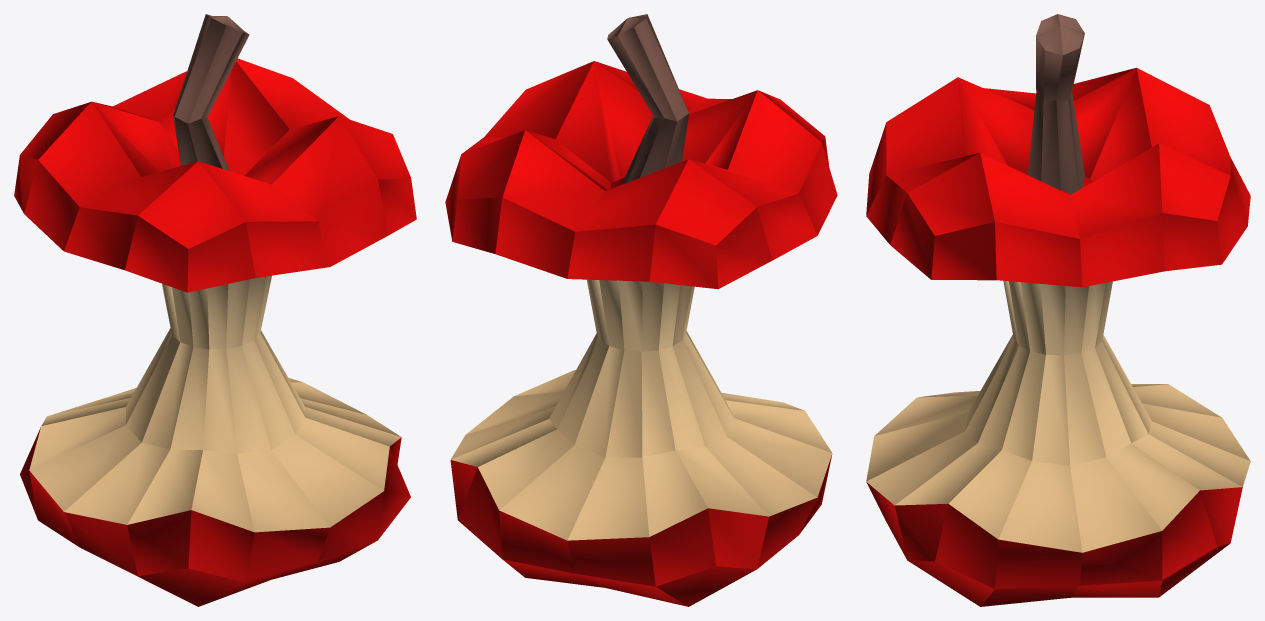
Rendered from apple.fbx.
3 views of the same model, side by side, from view 1: azimuth 30°, elevation 25°; view 2: azimuth 150°, elevation 25°; view 3: azimuth 270°, elevation 25° (orthographic).
Visible parts, largest first — view 1: 673; view 2: 673; view 3: 673.
Part boxes in pixels (<box>): 673: <box>14,14,416,606</box>; 673: <box>445,14,837,606</box>; 673: <box>866,14,1250,606</box>.
Bounding box in the file's own units: 21.94 × 34.51 × 21.94.
